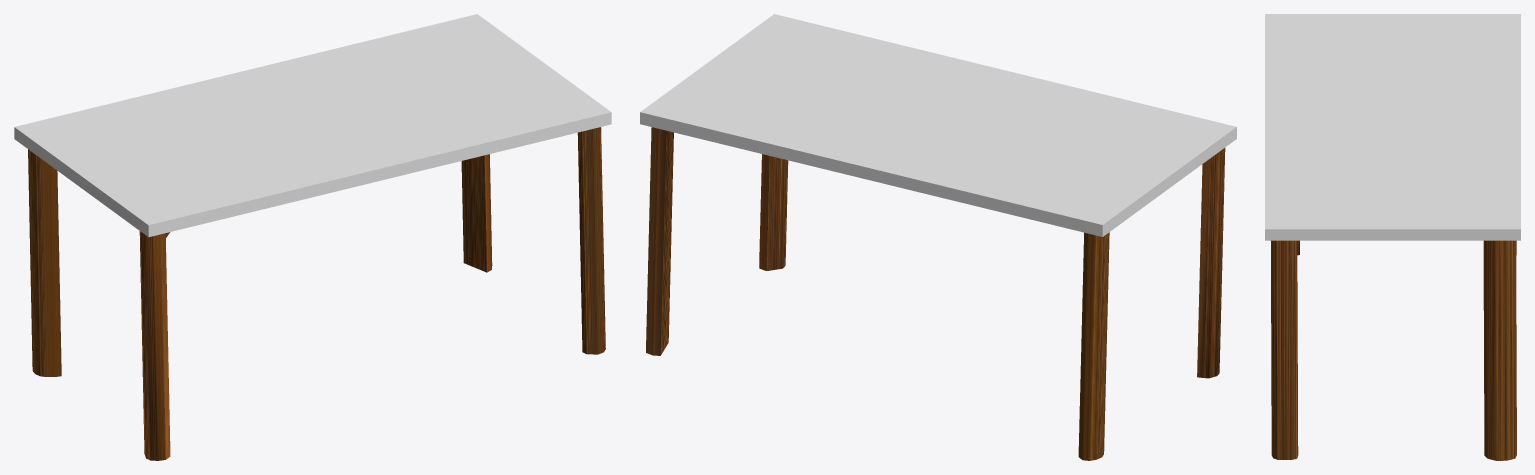
Rendered from newss.glb.
3 renders of one model, left to right at view 1: azimuth 30°, elevation 25°; view 2: azimuth 150°, elevation 25°; view 3: azimuth 270°, elevation 25°, orthographic. The views are drawn at different scales.
Visible parts, largest first — view 1: 3D desks (1); view 2: 3D desks (1); view 3: 3D desks (1).
Part boxes in pixels (<box>): 3D desks (1): <box>14,14,611,460</box>; 3D desks (1): <box>640,14,1236,460</box>; 3D desks (1): <box>1265,14,1520,460</box>.
Size of the model in its own units: 6 by 3 by 3.
3 materials, 1 textured.
